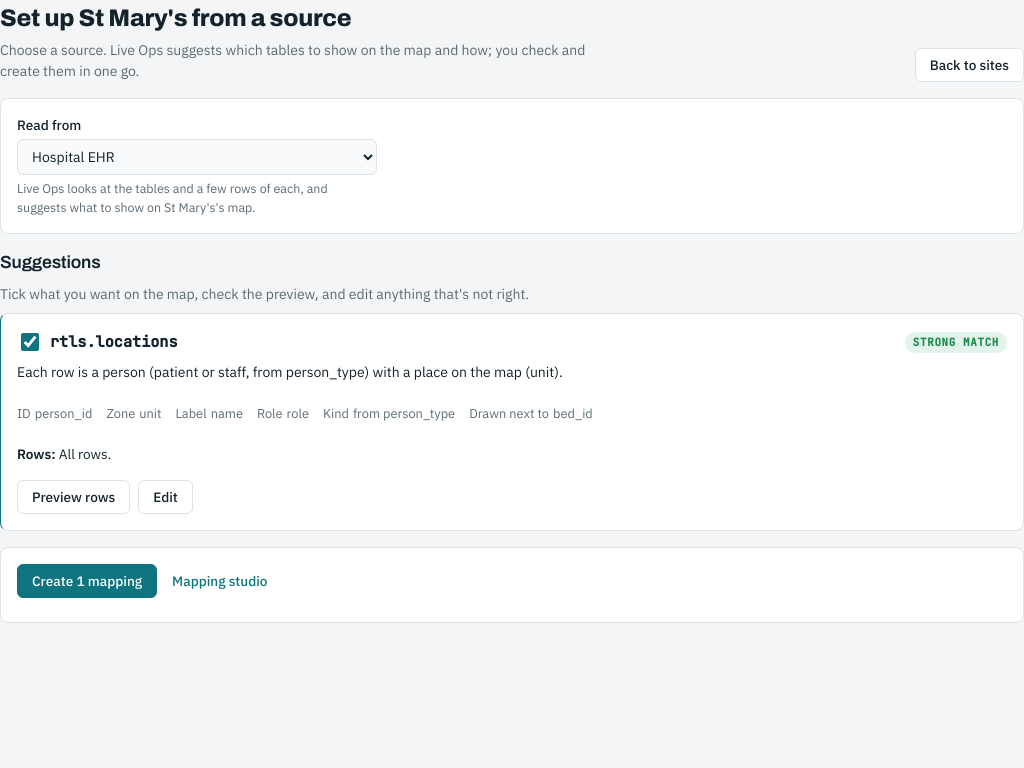
Test: kind read from a column and an anchor are shown, and a fixed kind replaces the column
Expected: the text "from person_type" is shown, [353,405,455,422]
Expected: the text "bed_id" is shown, [553,405,593,422]
Click the button "Edit" at (166, 497), box [138,480,193,514]
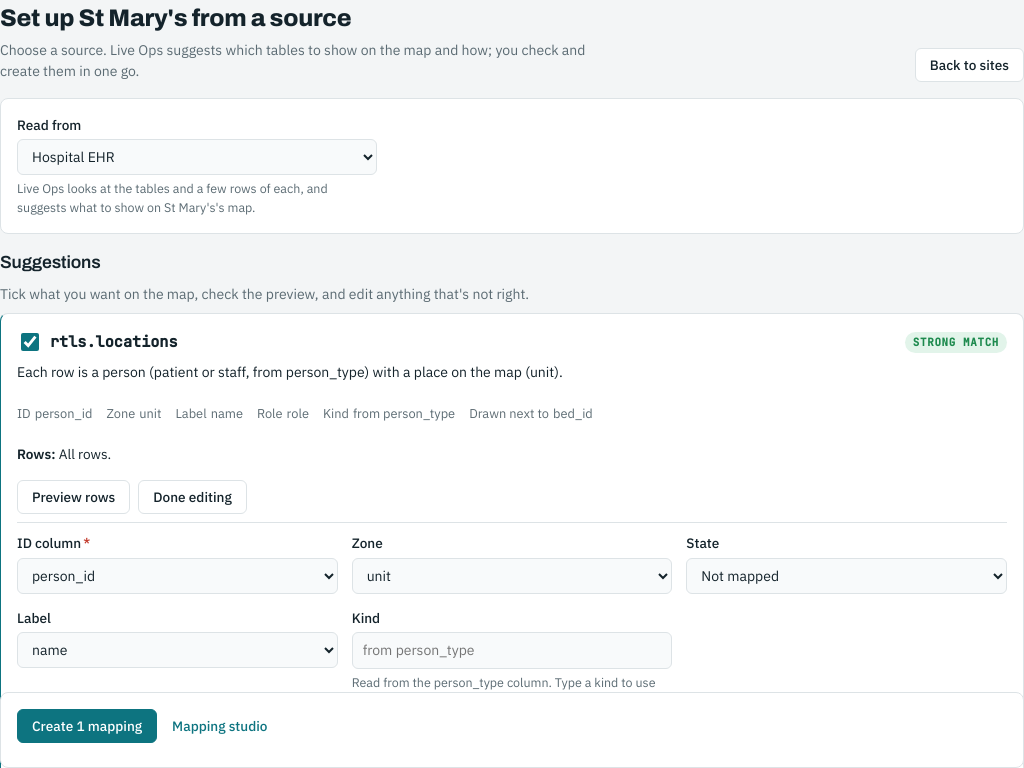
Type "person" into the field labelled "Kind" at (512, 651), box [352,632,672,669]
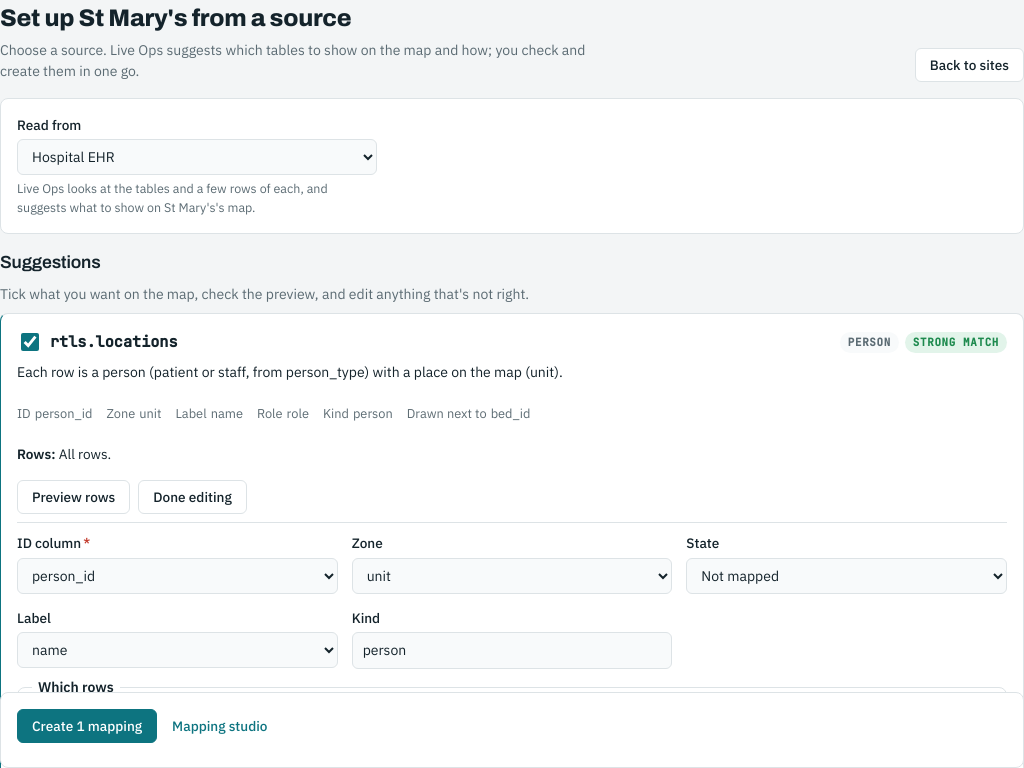
Click the button "Create 1 mapping" at (87, 726), box [17,709,157,743]
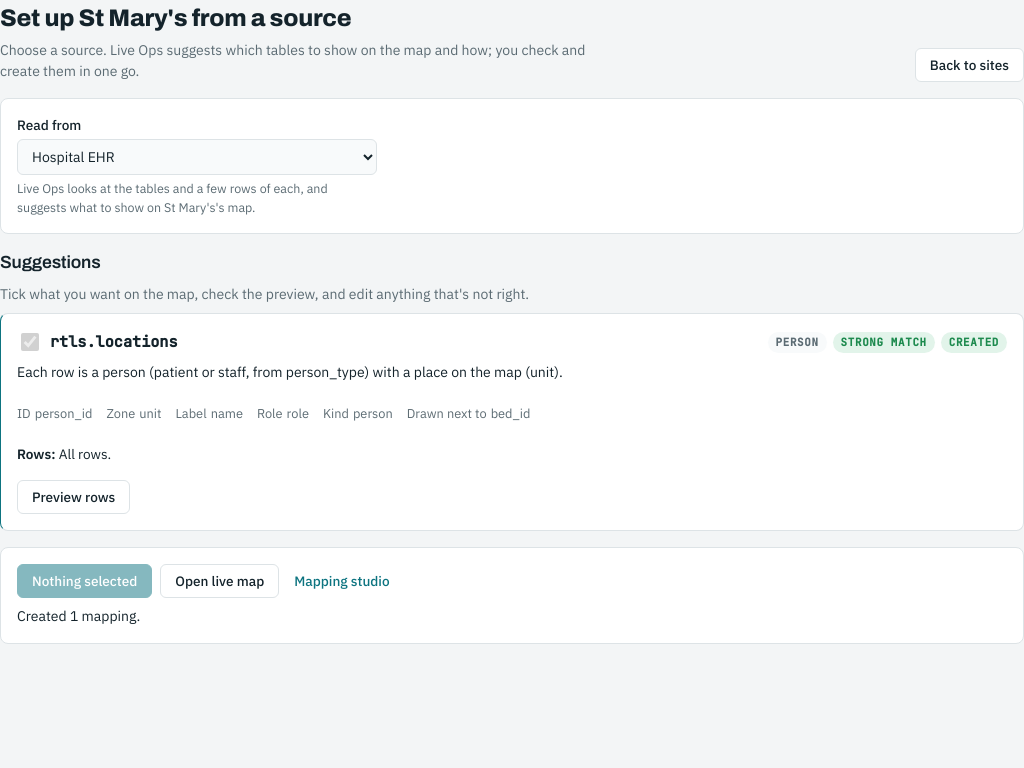
Now the text "from person_type" is shown, box [353,405,393,422]
Now the text "Created 1 mapping." is shown, box [17,607,140,625]
